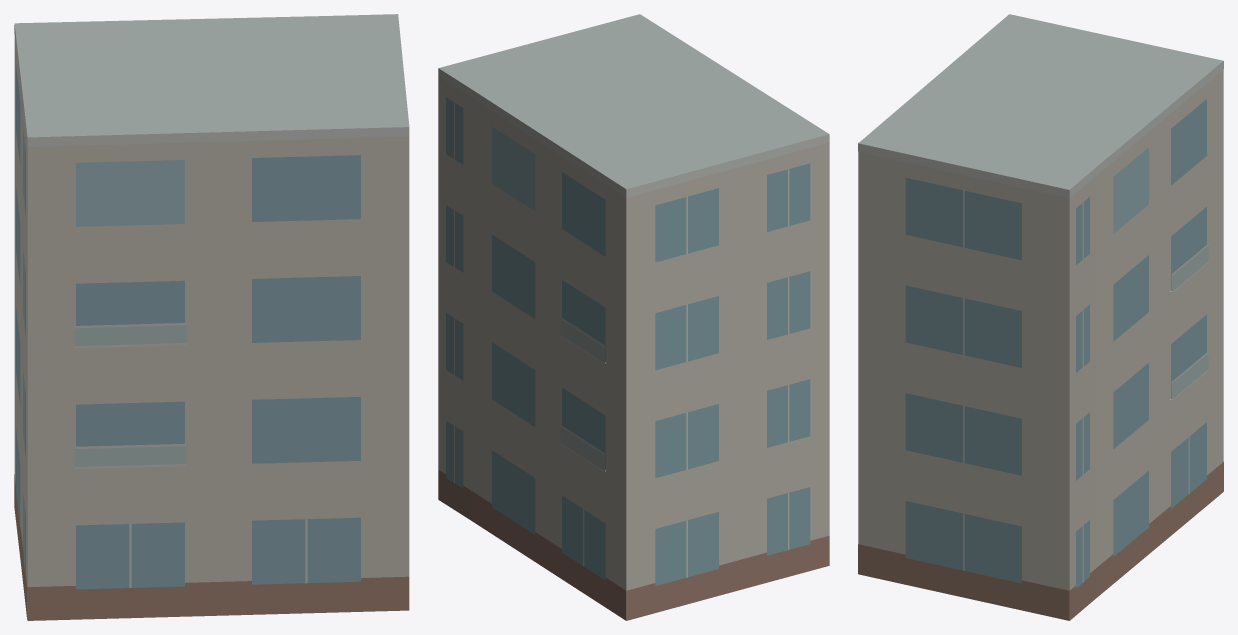
File: survey-upis-32734751.glb
The picture shows the model from 3 angles, left to right: view 1: azimuth 30°, elevation 25°; view 2: azimuth 150°, elevation 25°; view 3: azimuth 270°, elevation 25°; orthographic projection. The views are drawn at different scales.
Visible parts, largest first — view 1: survey-upis-32734751.tmp; view 2: survey-upis-32734751.tmp; view 3: survey-upis-32734751.tmp.
Part boxes in pixels (box(x1,y1,x2,y2)): survey-upis-32734751.tmp: box(14, 14, 409, 620); survey-upis-32734751.tmp: box(438, 14, 829, 620); survey-upis-32734751.tmp: box(858, 14, 1223, 620).
Bounding box in the file's own units: 10.87 × 12.4 × 9.54.
